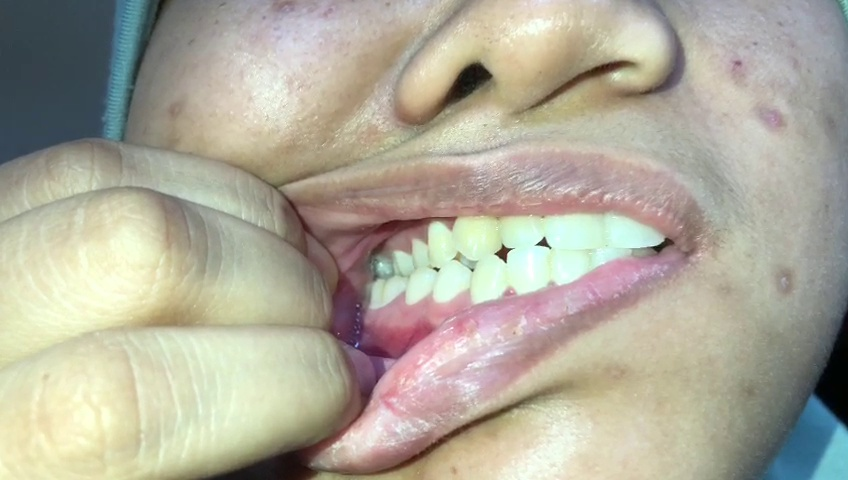1st Molar: (383, 274, 407, 308), (391, 245, 411, 276)
1st Premolar: (434, 259, 470, 308), (427, 219, 456, 268)
2nd Molar: (365, 279, 382, 314), (373, 250, 393, 277)
2nd Premolar: (406, 267, 435, 305), (409, 232, 429, 271)
Canine: (452, 207, 502, 262), (469, 258, 507, 305)
Lateral Incisor: (506, 244, 550, 297)
